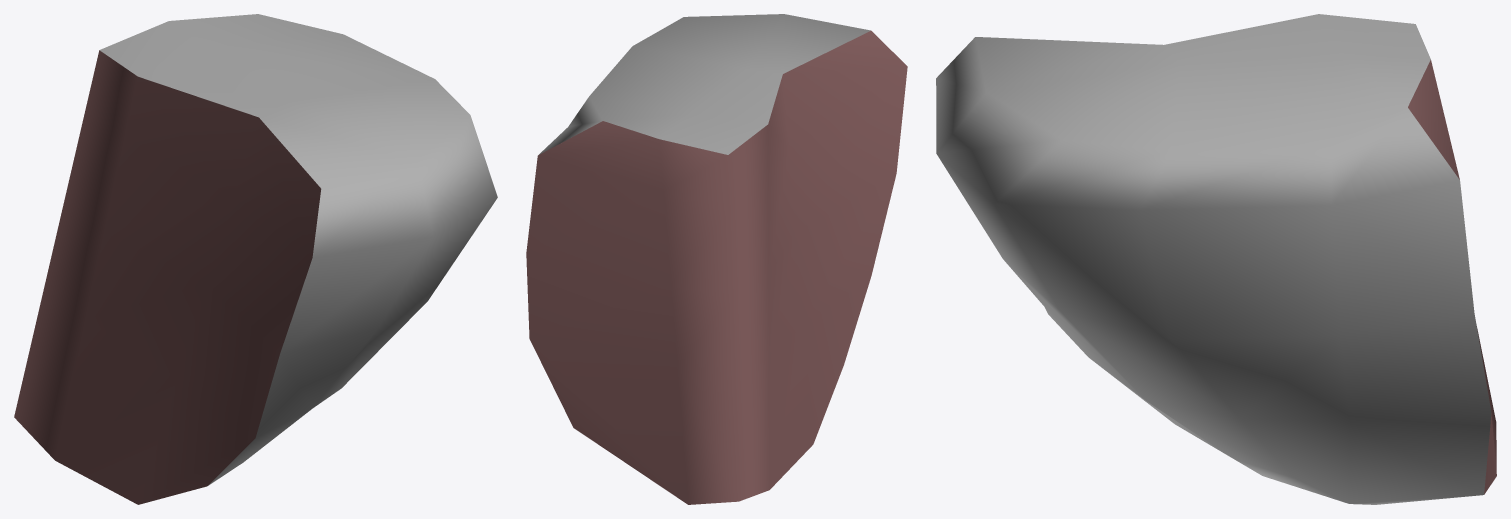
3 views of the same model, side by side, from view 1: azimuth 30°, elevation 25°; view 2: azimuth 150°, elevation 25°; view 3: azimuth 270°, elevation 25° (orthographic). The views are drawn at different scales.
Parts seen in each view (by area): view 1: p2_1; view 2: p2_1; view 3: p2_1.
Boxes of the visible parts, x1,y1,x2,y2 form: p2_1: (14, 14, 497, 504); p2_1: (526, 14, 907, 504); p2_1: (936, 14, 1496, 504).
Size of the model in its own units: 5.05 by 6.82 by 7.49.
